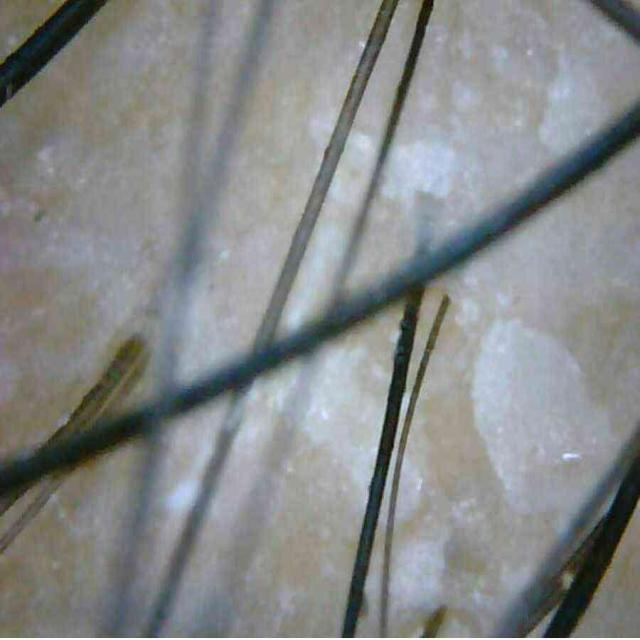ds: (470, 312, 639, 536), (249, 333, 377, 441), (388, 496, 481, 632), (174, 256, 258, 381), (536, 39, 619, 157), (378, 133, 467, 210), (344, 403, 384, 507)
